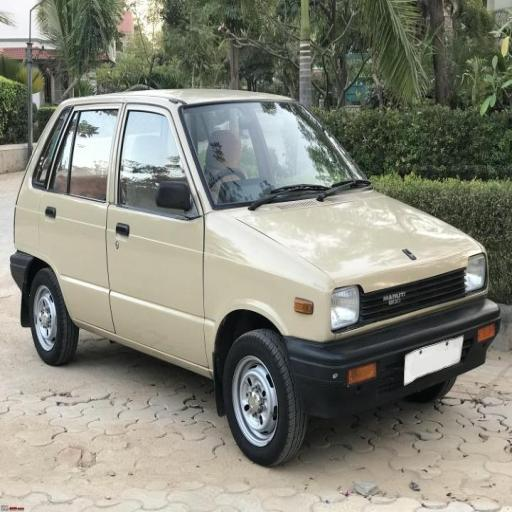License: (400, 334, 468, 386)
